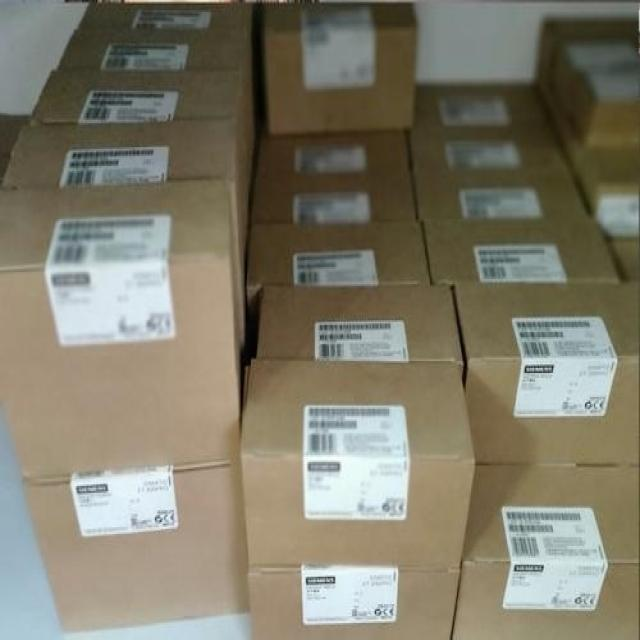box: (0, 176, 242, 479), (0, 118, 247, 342), (241, 358, 476, 566), (22, 459, 250, 633), (451, 462, 640, 640), (453, 281, 640, 460), (28, 68, 248, 195), (59, 26, 255, 166), (79, 5, 256, 132), (261, 0, 419, 137), (256, 282, 466, 383), (248, 219, 430, 335), (250, 566, 463, 640), (543, 91, 640, 240), (424, 217, 620, 282), (549, 38, 640, 144), (534, 15, 640, 103), (415, 171, 590, 221), (406, 80, 552, 135), (252, 178, 417, 222), (408, 130, 568, 175), (256, 137, 408, 180)
